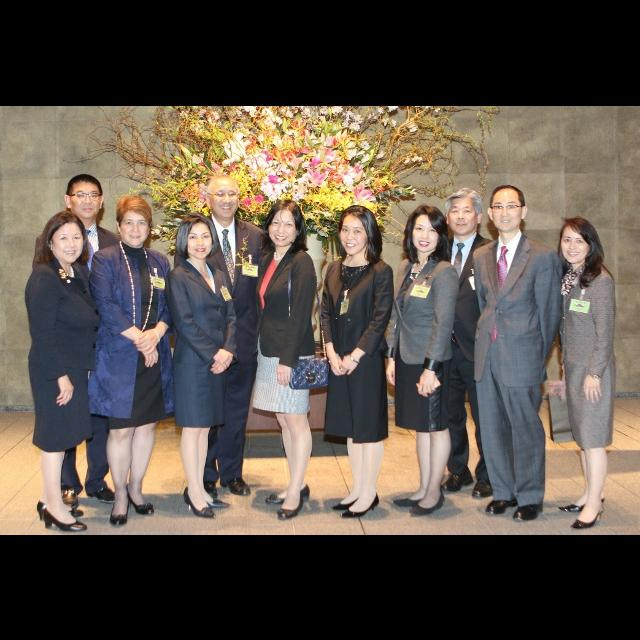head: (45, 211, 87, 265), (114, 195, 154, 249), (486, 185, 530, 233), (62, 174, 106, 220), (408, 202, 446, 254), (444, 189, 484, 237), (339, 208, 376, 256), (267, 198, 303, 246), (561, 219, 597, 265), (206, 176, 242, 220), (181, 216, 215, 260)
person: (172, 173, 280, 514), (29, 172, 135, 516), (468, 183, 568, 527), (88, 193, 178, 531), (244, 196, 332, 524), (432, 184, 514, 503), (317, 204, 399, 522), (384, 201, 464, 519), (162, 210, 242, 522), (548, 215, 620, 533)
